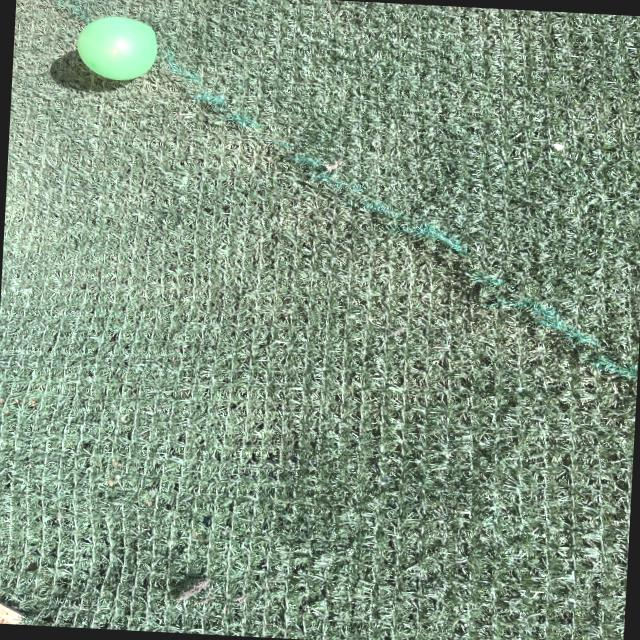balloon: (78, 17, 157, 80)
